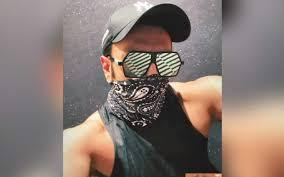cap: (95, 0, 198, 47)
scarf-kerchief: (102, 70, 176, 132)
sunglasses: (116, 47, 191, 82)
